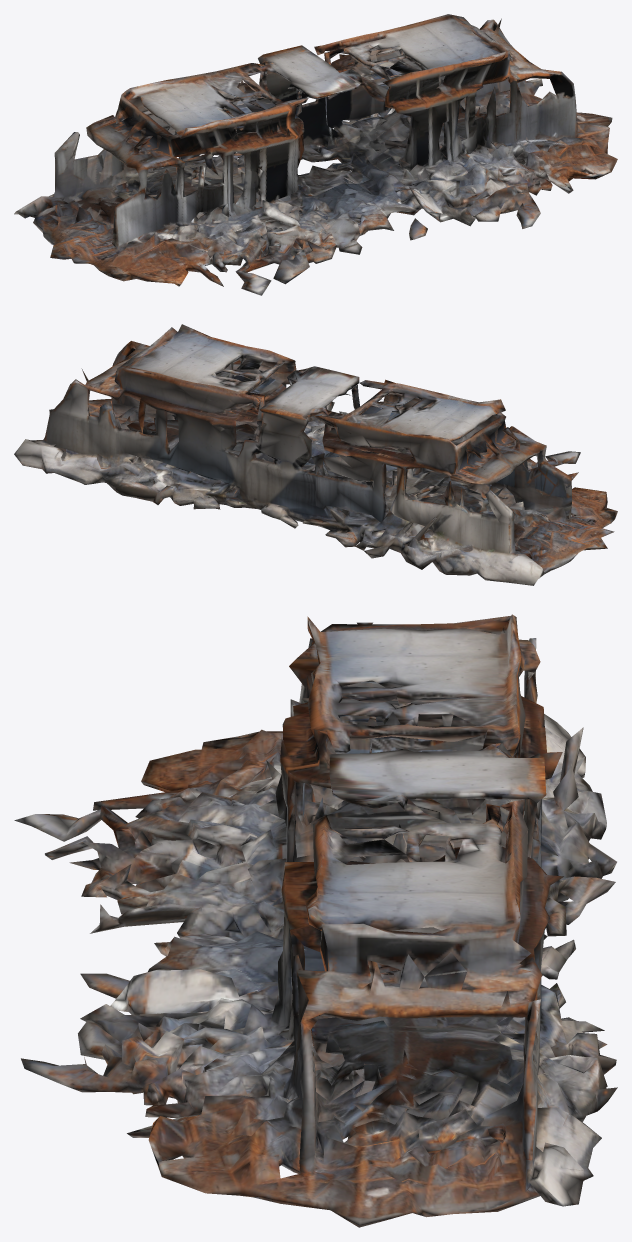
Rendered from CityDebris_3.fbx.
The picture shows the model from 3 angles, top to bottom: view 1: azimuth 30°, elevation 25°; view 2: azimuth 150°, elevation 25°; view 3: azimuth 270°, elevation 25°; orthographic projection. The views are drawn at different scales.
Visible parts, largest first — view 1: Mesh_0; view 2: Mesh_0; view 3: Mesh_0.
Part boxes in pixels (x1=…): Mesh_0: x1=14, y1=14, x2=617, y2=295; Mesh_0: x1=14, y1=324, x2=617, y2=585; Mesh_0: x1=14, y1=614, x2=617, y2=1227.
Bounding box in the file's own units: 201 × 39.65 × 99.75.
1 material, 1 textured.
